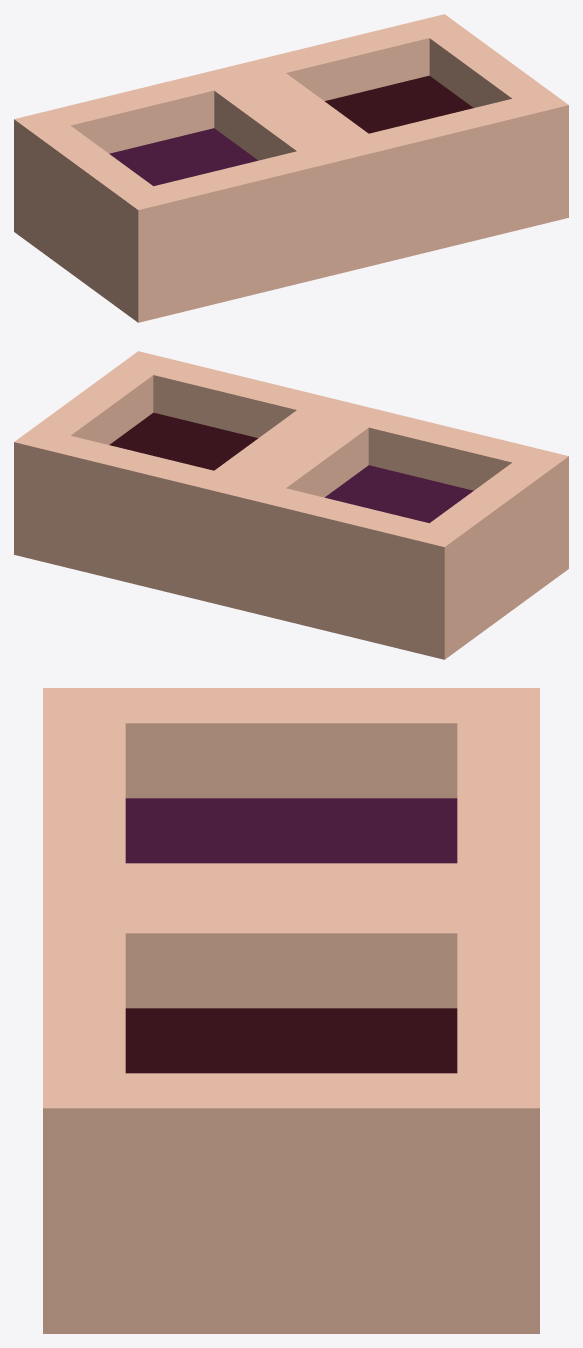
The model's file is Salsas.fbx.
The picture shows the model from 3 angles, top to bottom: view 1: azimuth 30°, elevation 25°; view 2: azimuth 150°, elevation 25°; view 3: azimuth 270°, elevation 25°; orthographic projection. The views are drawn at different scales.
Visible parts, largest first — view 1: Salsas.001; view 2: Salsas.001; view 3: Salsas.001.
Part boxes in pixels (x1,y1,x2,y2): Salsas.001: (14,14,568,322); Salsas.001: (14,351,568,659); Salsas.001: (43,688,539,1333).
Bounding box in the file's own units: 1.21 × 0.3035 × 0.6071.
